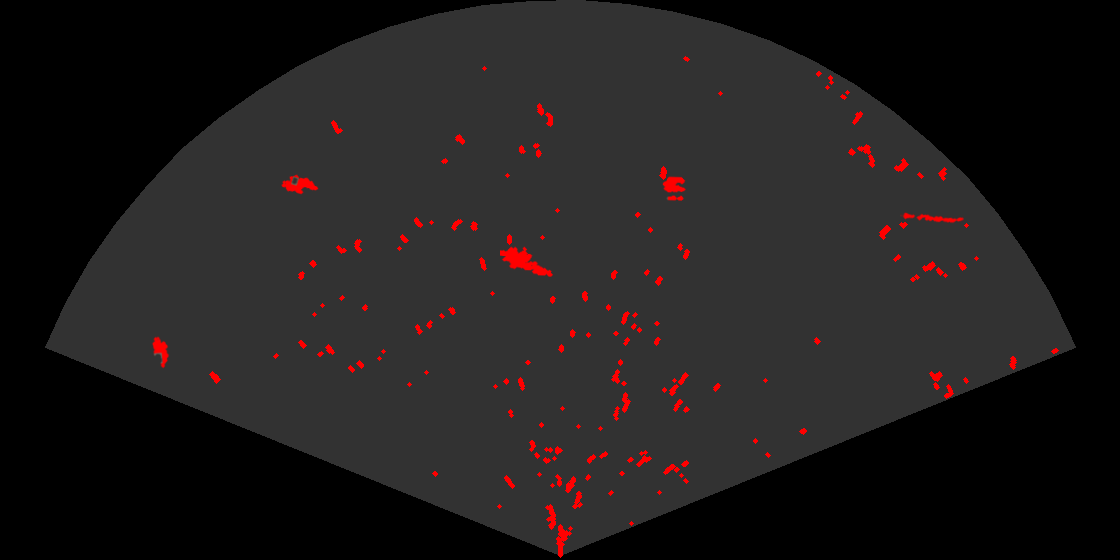AUV: (280, 173, 320, 196), (150, 335, 170, 370)
ball: (661, 175, 688, 202)
chain: (900, 211, 964, 225)
frogman: (500, 245, 555, 278)
